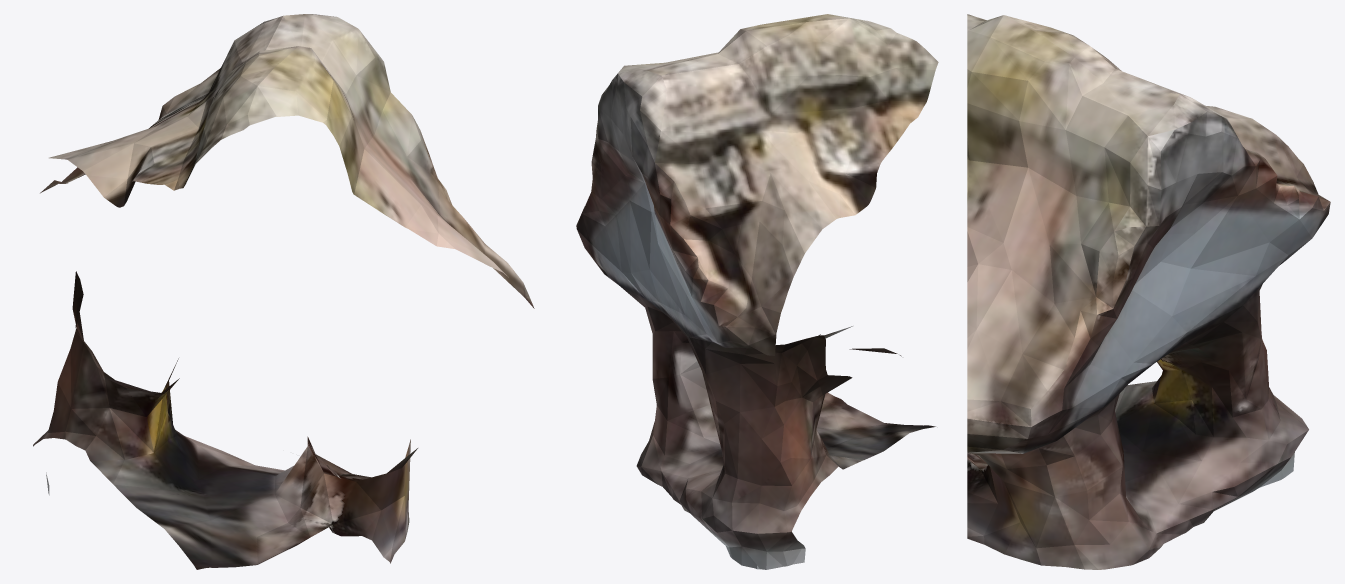
3 renders of one model, left to right at view 1: azimuth 30°, elevation 25°; view 2: azimuth 150°, elevation 25°; view 3: azimuth 270°, elevation 25°, orthographic. The views are drawn at different scales.
Bounding box in the file's own units: 0.5297 × 0.6795 × 0.4757.
3 materials, 3 textured.
